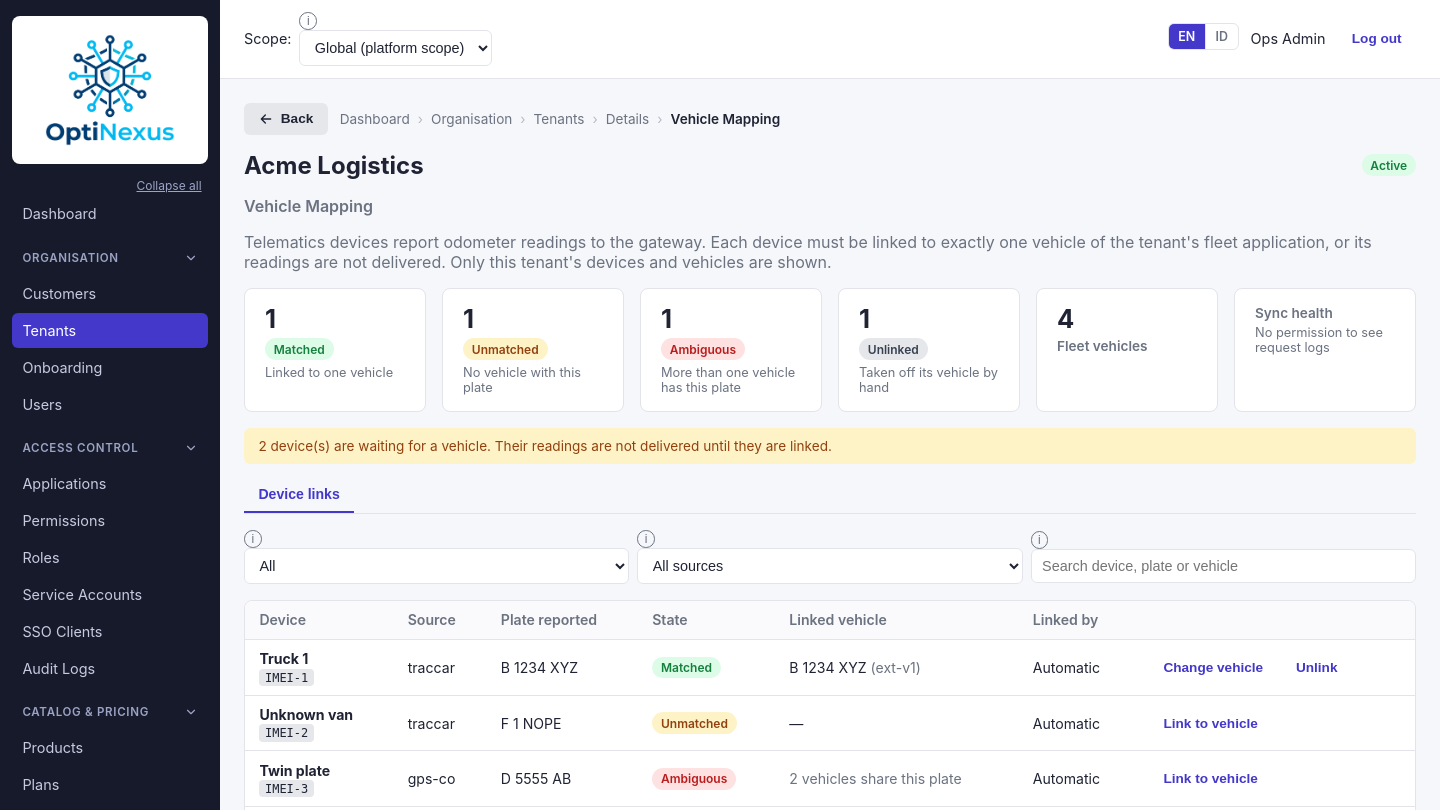
vehicle mapping page › a server refusal while linking is shown in the form with its reference, and the form stays open
Click the button "Link to vehicle" in the row of "Unknown van": (1211, 723) [1149,708,1272,738]
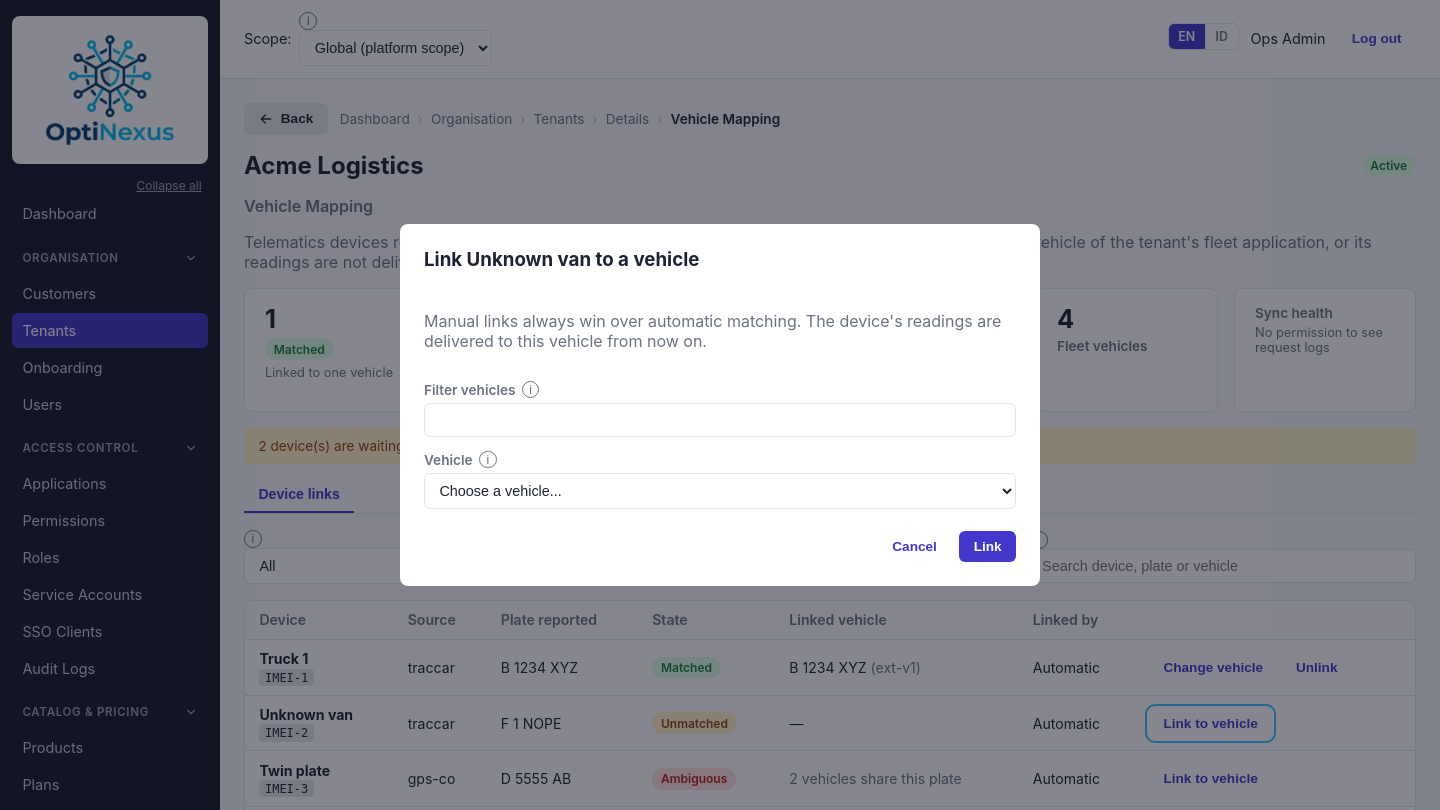
Select "B 1234 XYZ (ext-v1)" in the dropdown labelled "Vehicle": (720, 491) [424,473,1016,509]
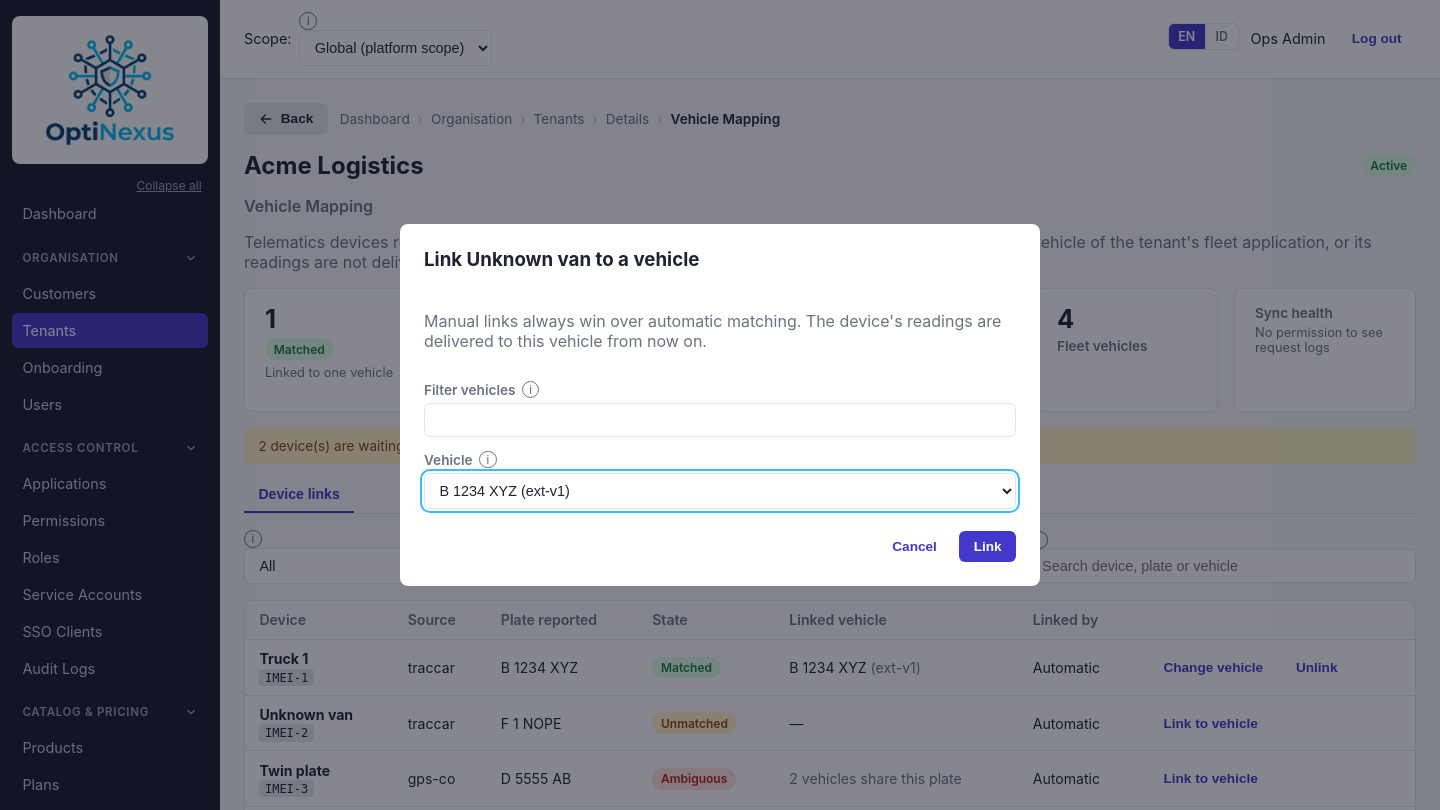
Click the button "Link": (988, 546) [959,531,1016,562]
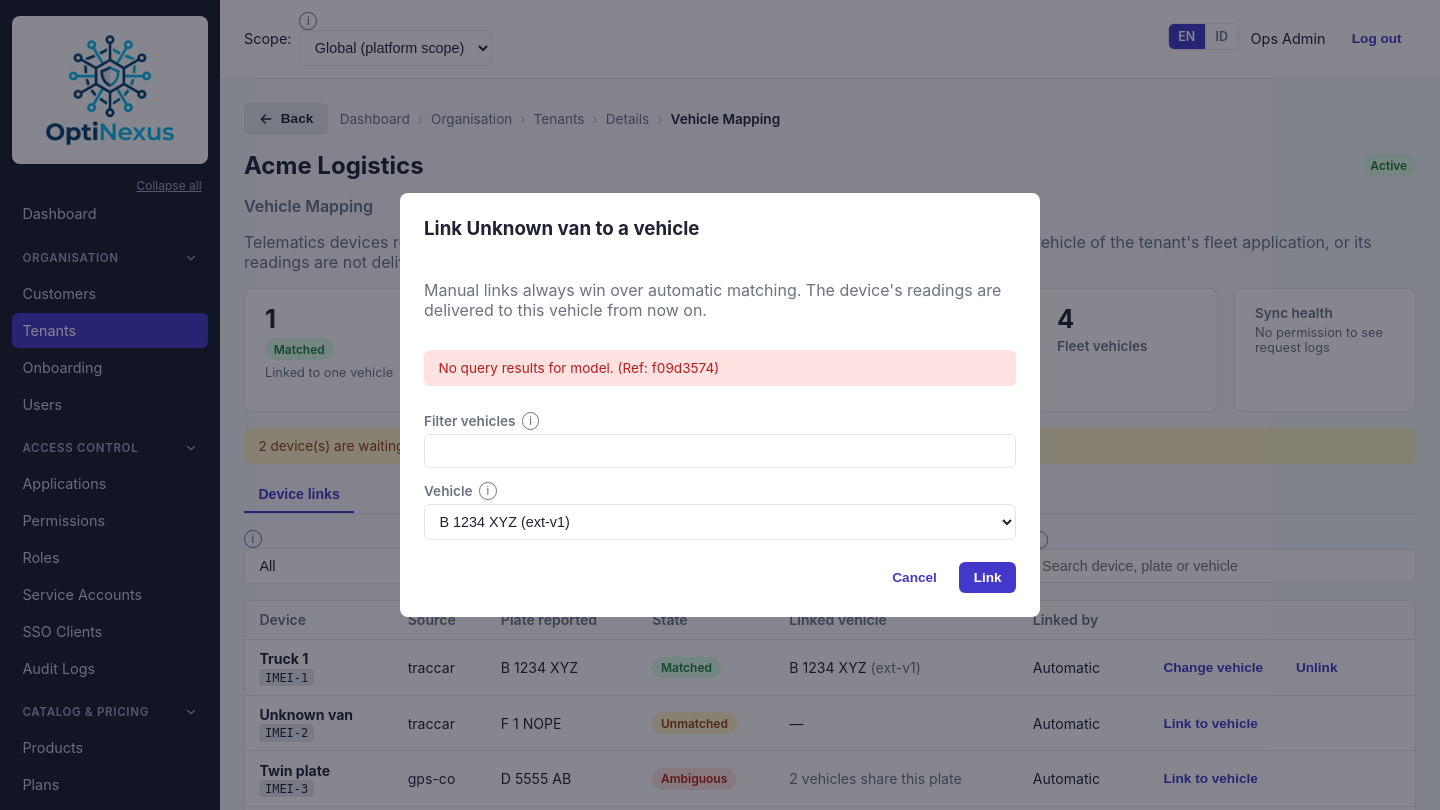
Now the dialog is shown, box [400,193,1040,617]
Now the text "No query results for model. (Ref: f09d3574)" is shown, box [424,350,1016,386]
